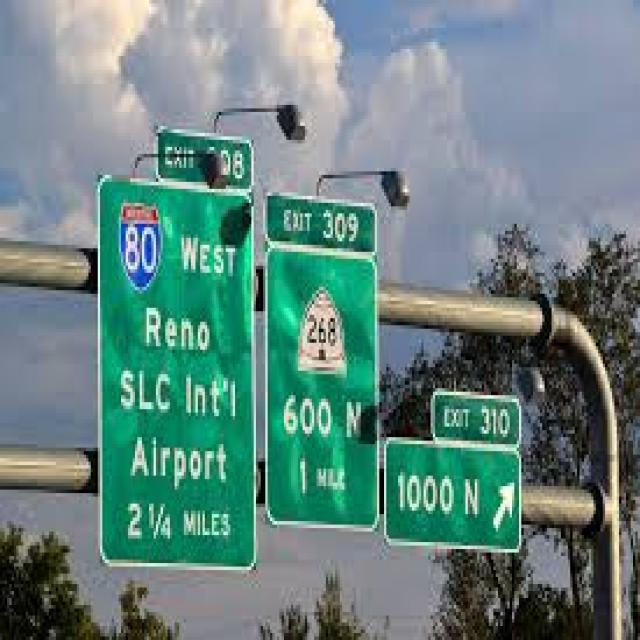street-signs: (98, 170, 258, 573), (266, 244, 380, 531), (383, 438, 524, 555), (264, 191, 378, 261), (155, 125, 256, 196), (431, 387, 525, 452)
